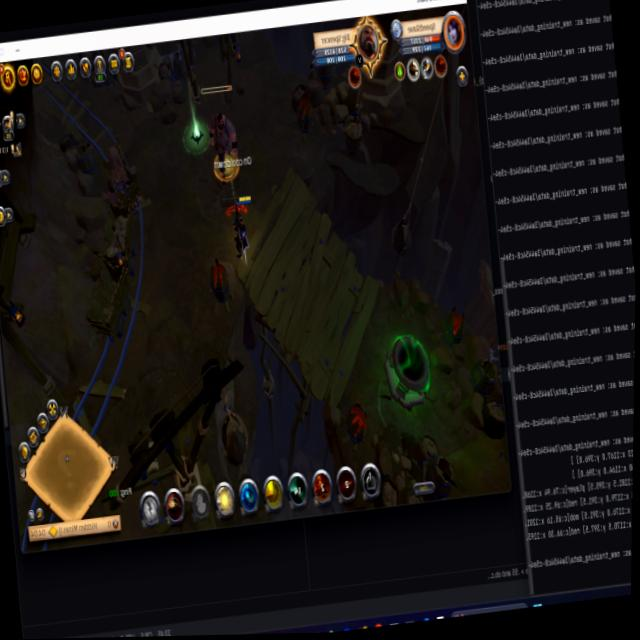ore: (196, 78, 246, 187)
red: (218, 191, 260, 271)
